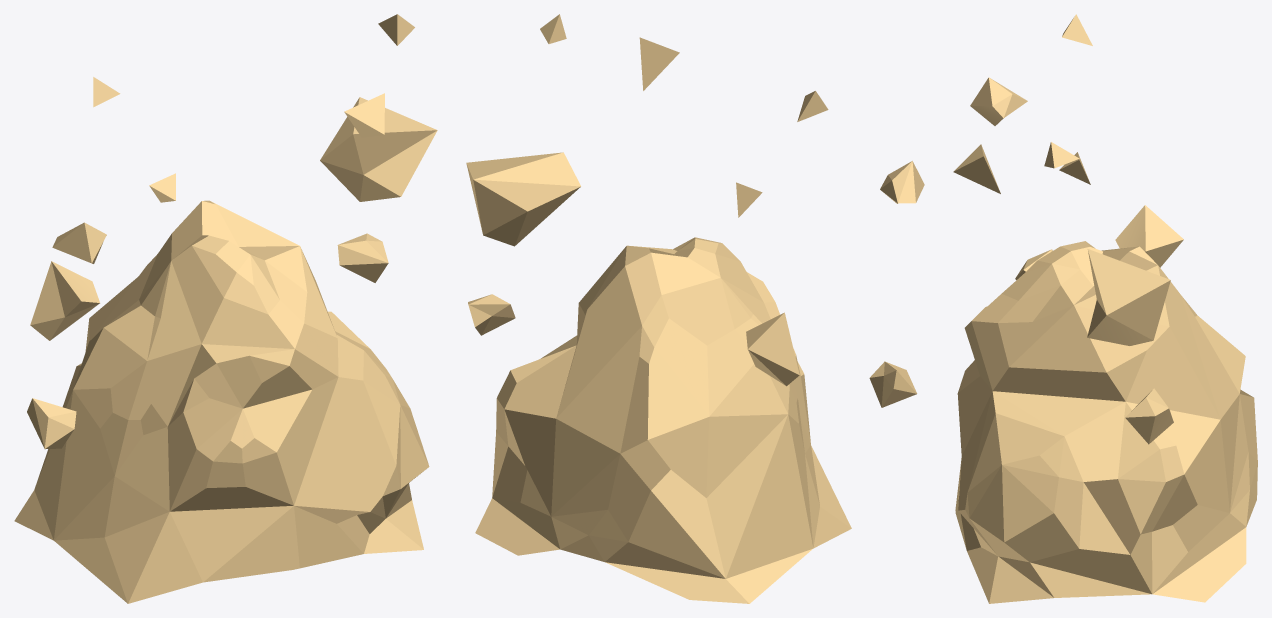
Rendered from Lumber_Fire.fbx.
The picture shows the model from 3 angles, left to right: view 1: azimuth 30°, elevation 25°; view 2: azimuth 150°, elevation 25°; view 3: azimuth 270°, elevation 25°; orthographic projection. The views are drawn at different scales.
Visible parts, largest first — view 1: polySurface2090; view 2: polySurface2090; view 3: polySurface2090.
Part boxes in pixels (<box>): polySurface2090: <box>14,14,437,603</box>; polySurface2090: <box>466,14,924,603</box>; polySurface2090: <box>953,14,1257,603</box>.
Bounding box in the file's own units: 86.16 × 95.27 × 56.56.
